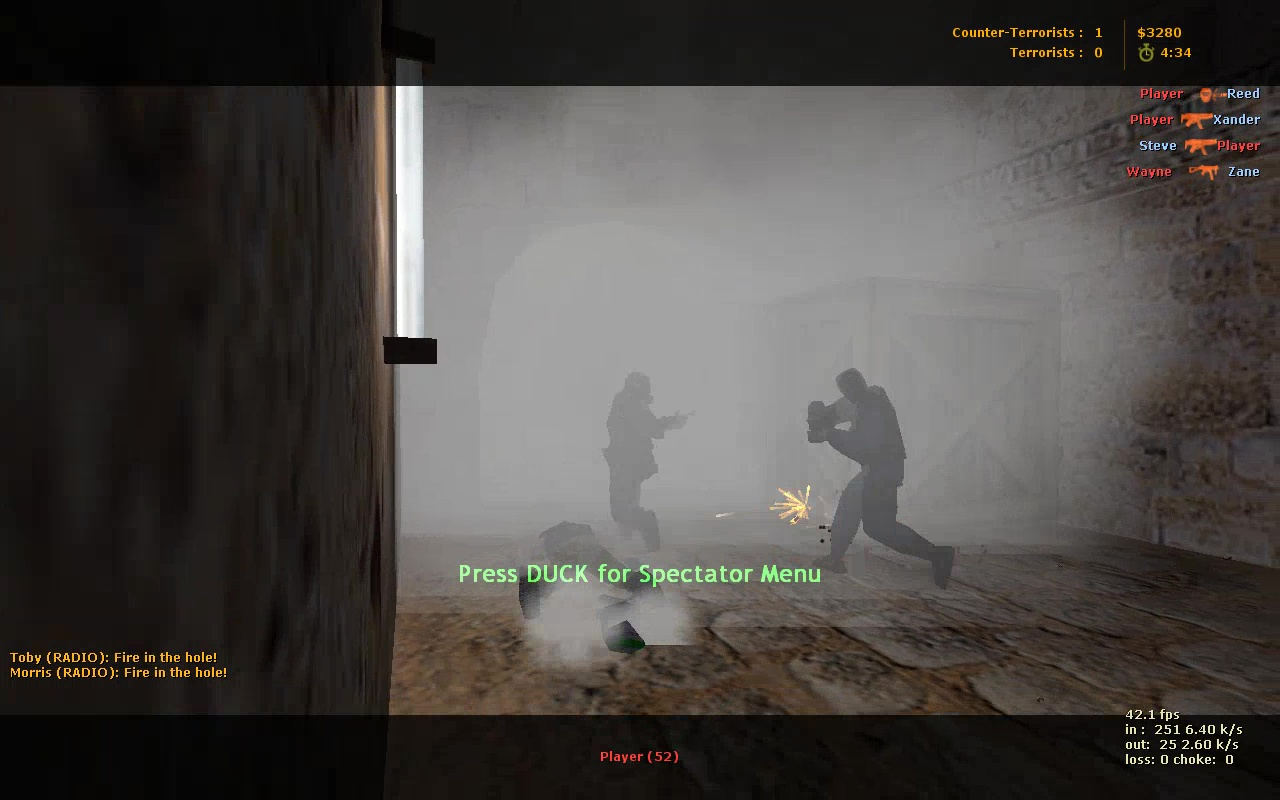ct: (803, 370, 964, 592), (601, 369, 695, 557)
dead: (522, 517, 667, 610)
